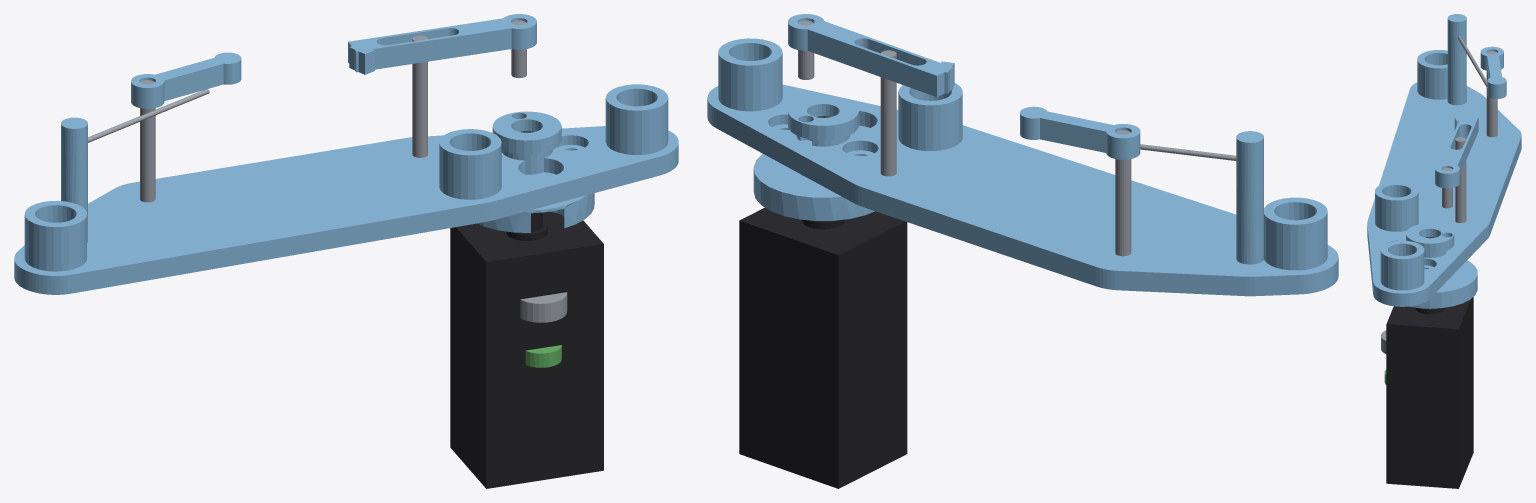
Rendered from m2_e6_fallback_pawl_exploded.dae.
The picture shows the model from 3 angles, left to right: view 1: azimuth 30°, elevation 25°; view 2: azimuth 150°, elevation 25°; view 3: azimuth 270°, elevation 25°; orthographic projection. The views are drawn at different scales.
Visible parts, largest first — view 1: e6_bracket, E6_gearmotor, e6_pawl, e6_crank, ring_jumper, e6_fulcrum, ring_jumper_pivot, e6_magnet, ring_jumper_spring, e6_hall; view 2: e6_bracket, E6_gearmotor, e6_crank, e6_pawl, ring_jumper, e6_fulcrum, ring_jumper_pivot; view 3: e6_bracket, E6_gearmotor, e6_crank, e6_pawl, ring_jumper, e6_fulcrum, ring_jumper_pivot, e6_crank_pin, ring_jumper_spring.
Part boxes in pixels (bbox=[...]): e6_bracket: bbox=[14, 84, 678, 294]; E6_gearmotor: bbox=[450, 131, 603, 488]; e6_pawl: bbox=[348, 14, 536, 74]; e6_crank: bbox=[477, 111, 594, 232]; ring_jumper: bbox=[131, 52, 241, 108]; e6_fulcrum: bbox=[412, 35, 427, 157]; ring_jumper_pivot: bbox=[140, 80, 155, 202]; e6_magnet: bbox=[520, 292, 567, 322]; ring_jumper_spring: bbox=[88, 88, 209, 142]; e6_hall: bbox=[525, 345, 561, 367]; e6_bracket: bbox=[707, 38, 1338, 296]; E6_gearmotor: bbox=[739, 116, 907, 488]; e6_crank: bbox=[753, 96, 874, 220]; e6_pawl: bbox=[788, 14, 954, 96]; ring_jumper: bbox=[1020, 106, 1140, 159]; e6_fulcrum: bbox=[880, 50, 896, 176]; ring_jumper_pivot: bbox=[1115, 130, 1131, 256]; e6_bracket: bbox=[1367, 14, 1521, 306]; E6_gearmotor: bbox=[1386, 237, 1473, 488]; e6_crank: bbox=[1406, 223, 1477, 308]; e6_pawl: bbox=[1435, 115, 1478, 188]; ring_jumper: bbox=[1480, 46, 1506, 98]; e6_fulcrum: bbox=[1455, 137, 1466, 223]; ring_jumper_pivot: bbox=[1486, 51, 1497, 137]; e6_crank_pin: bbox=[1442, 167, 1452, 208]; ring_jumper_spring: bbox=[1457, 36, 1487, 87].
Bounding box in the file's own units: 69.47 × 21.01 × 45.25.
